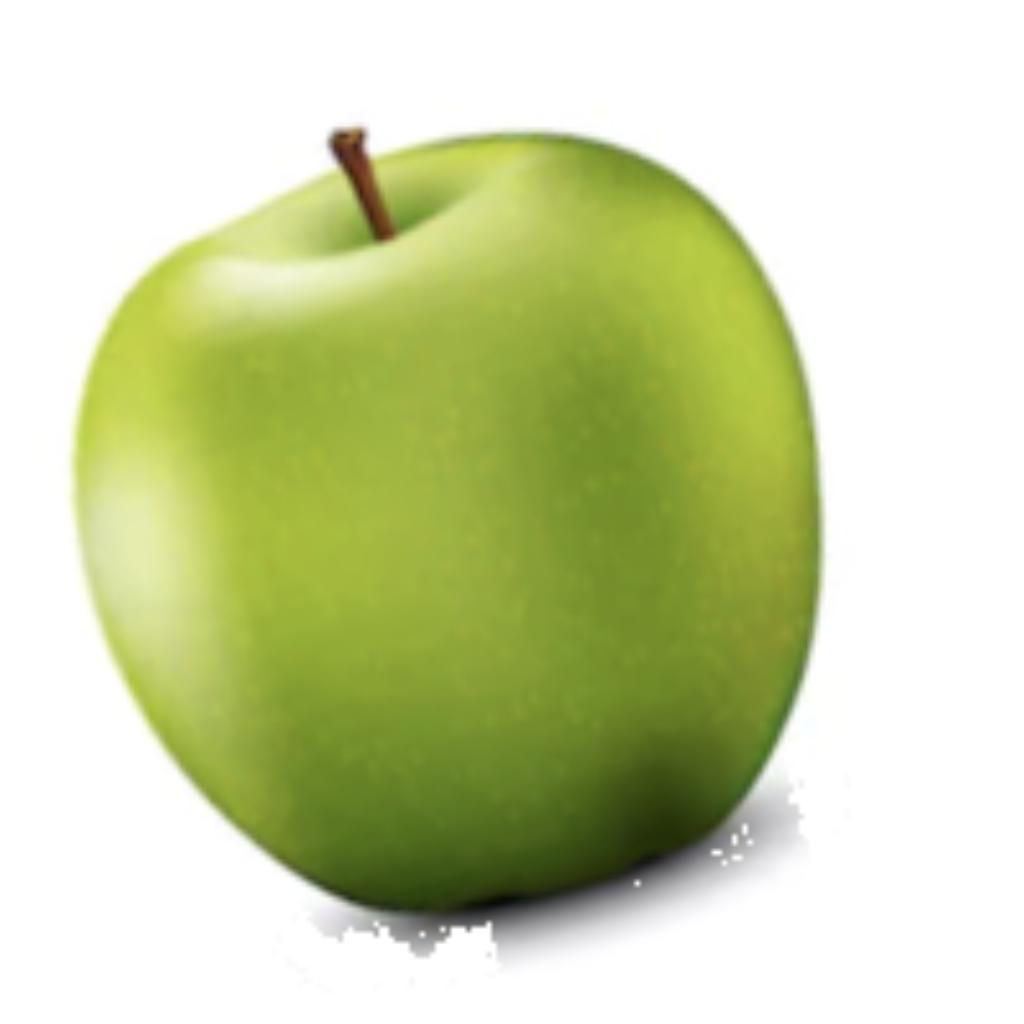apple: (61, 118, 829, 978)
